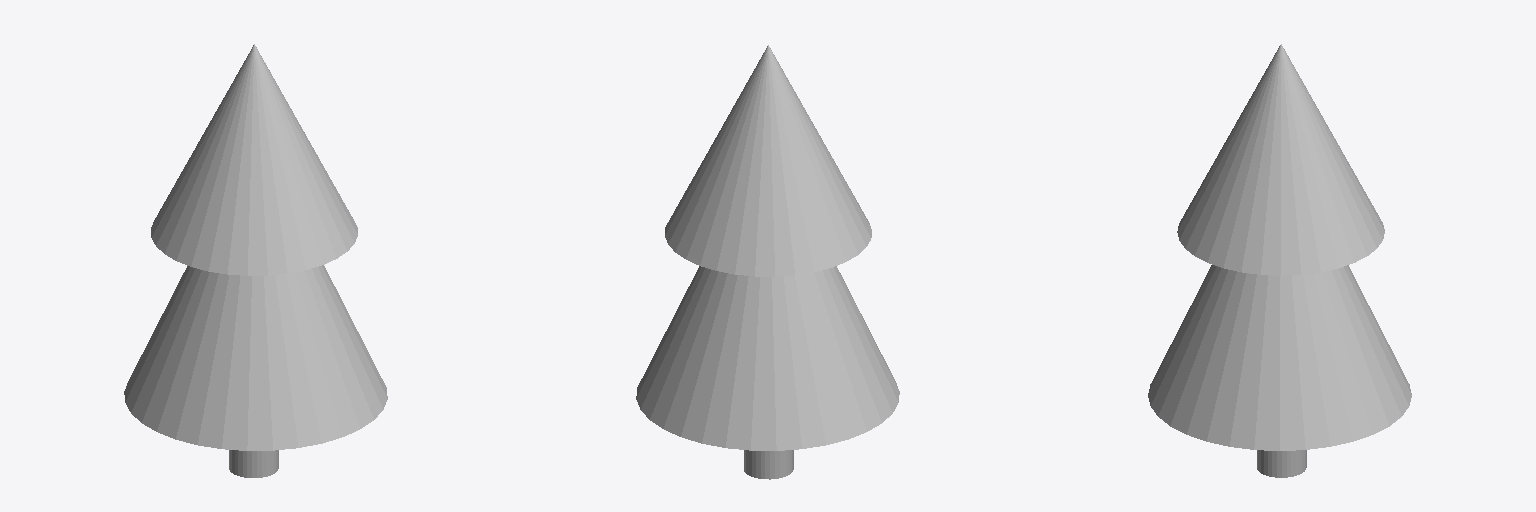
File: tree.obj
3 renders of one model, left to right at view 1: azimuth 30°, elevation 25°; view 2: azimuth 150°, elevation 25°; view 3: azimuth 270°, elevation 25°, orthographic.
Parts seen in each view (by area): view 1: Cylinder; view 2: Cylinder; view 3: Cylinder.
Boxes of the visible parts, <box> form: Cylinder: <box>124,44,387,477</box>; Cylinder: <box>636,45,899,479</box>; Cylinder: <box>1148,44,1411,477</box>.
Bounding box in the file's own units: 2.54 × 4.5 × 2.54.